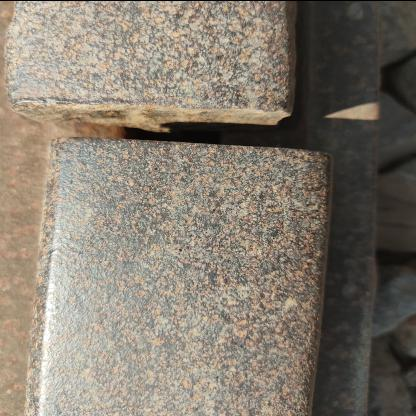Defective 2: (0, 2, 368, 310)
